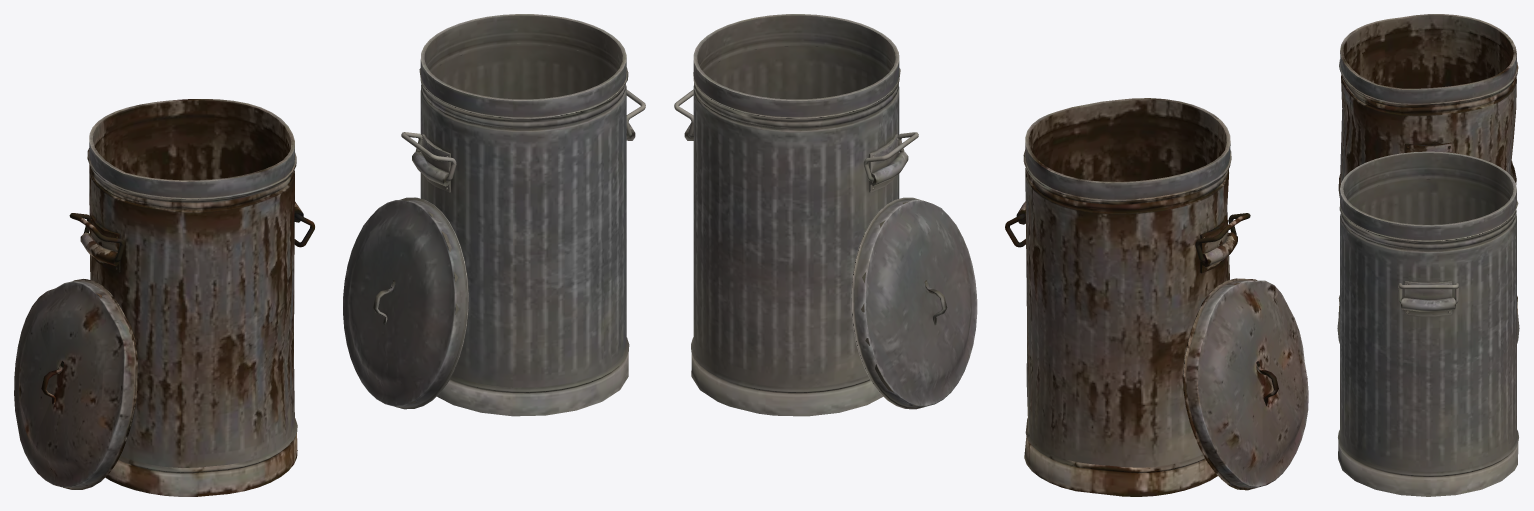
Rendered from metal_trash_can.glb.
The picture shows the model from 3 angles, left to right: view 1: azimuth 30°, elevation 25°; view 2: azimuth 150°, elevation 25°; view 3: azimuth 270°, elevation 25°; orthographic projection. The views are drawn at different scales.
Visible parts, largest first — view 1: metal_trash_can_handle_left, metal_trash_can_rust; view 2: metal_trash_can_handle_left, metal_trash_can_rust; view 3: metal_trash_can_handle_left, metal_trash_can_rust.
Boxes of the visible parts, left/top/right/bottom form: metal_trash_can_handle_left: left=343, top=14, right=645, bottom=416; metal_trash_can_rust: left=14, top=99, right=314, bottom=496; metal_trash_can_handle_left: left=674, top=14, right=977, bottom=416; metal_trash_can_rust: left=1005, top=98, right=1308, bottom=496; metal_trash_can_handle_left: left=1337, top=151, right=1519, bottom=496; metal_trash_can_rust: left=1338, top=14, right=1518, bottom=316.
Bounding box in the file's own units: 1.78 × 0.9062 × 0.5543.
Materials: 2 (2 with a texture image).
